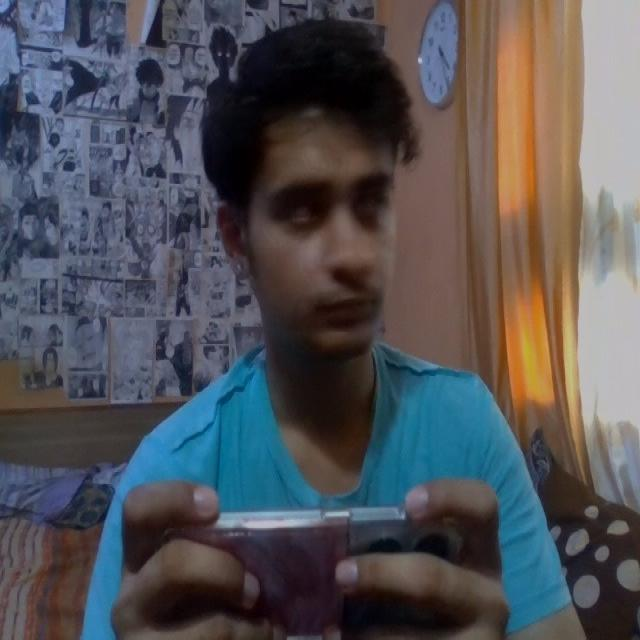phone: (168, 515, 462, 639)
using-phone: (82, 9, 595, 640)
